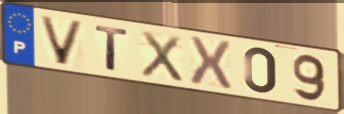0: (242, 45, 278, 95)
9: (290, 52, 328, 103)
T: (92, 23, 131, 73)
V: (37, 14, 88, 68)
X: (186, 34, 234, 91), (139, 29, 186, 85)
